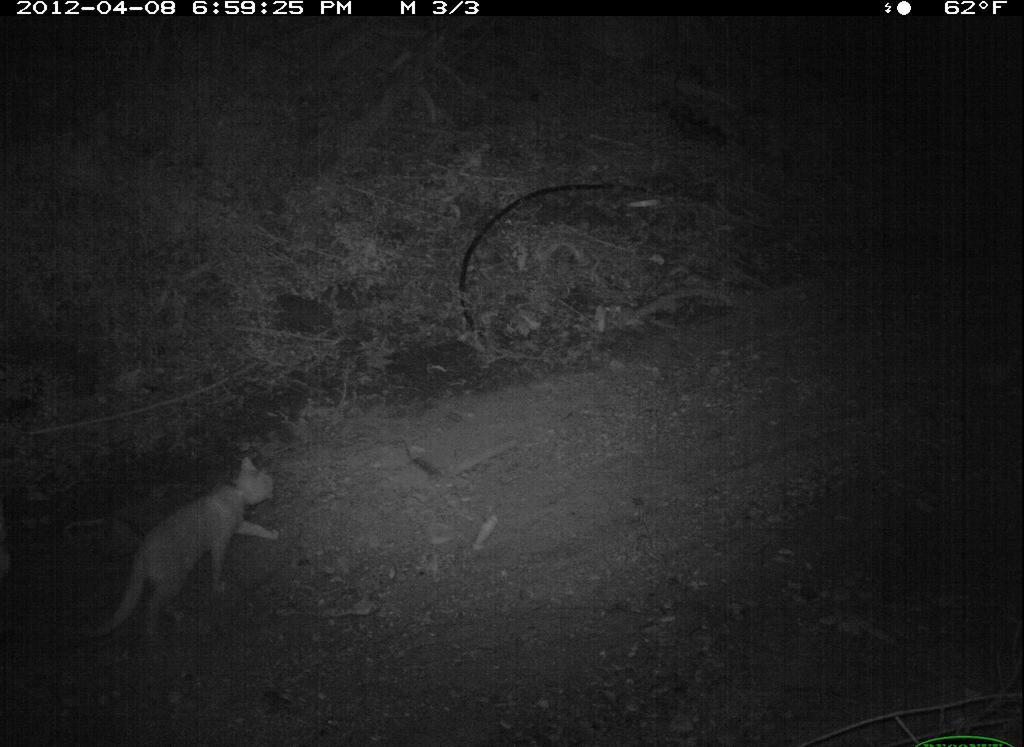cat: (89, 453, 287, 644)
